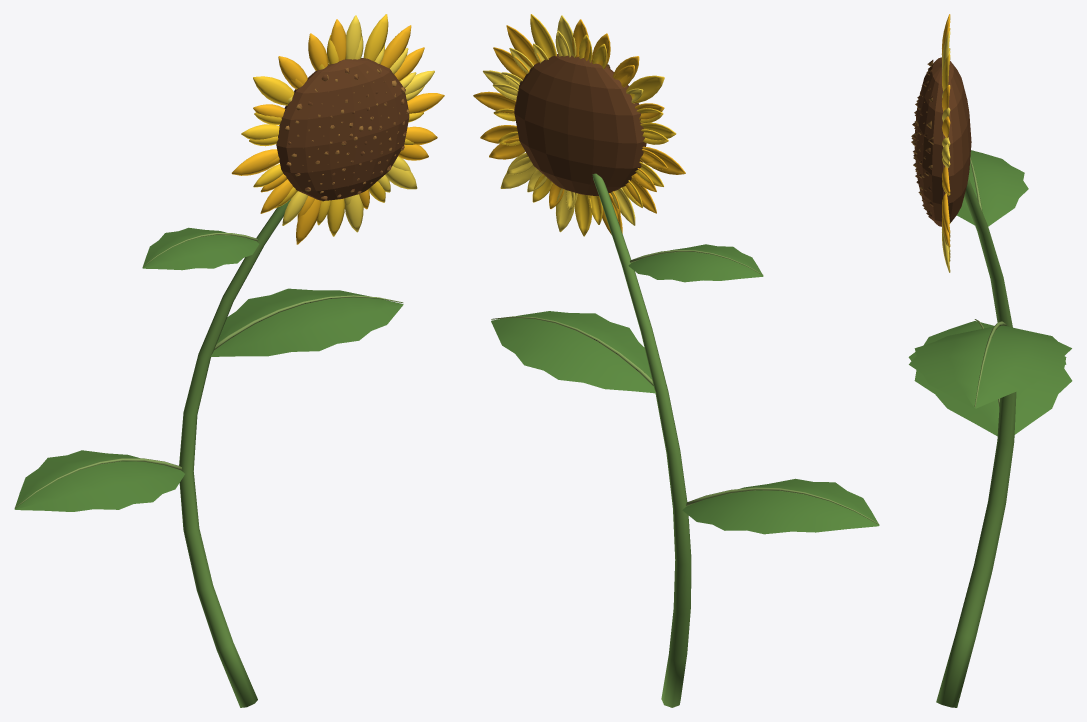
Rendered from sunflower-v2-bloom-2-2.glb.
3 renders of one model, left to right at view 1: azimuth 30°, elevation 25°; view 2: azimuth 150°, elevation 25°; view 3: azimuth 270°, elevation 25°, orthographic. The views are drawn at different scales.
Parts seen in each view (by area): view 1: Curved tapered stem; view 2: Curved tapered stem; view 3: Curved tapered stem.
Boxes of the visible parts, left/top/right/bottom form: Curved tapered stem: left=14, top=14, right=444, bottom=707; Curved tapered stem: left=473, top=14, right=879, bottom=707; Curved tapered stem: left=908, top=14, right=1072, bottom=707.
Bounding box in the file's own units: 0.4297 × 0.6529 × 0.1317.
